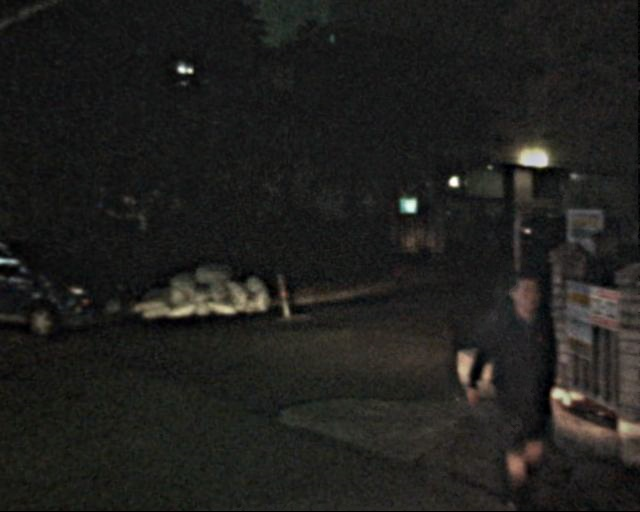person: (457, 272, 577, 503)
